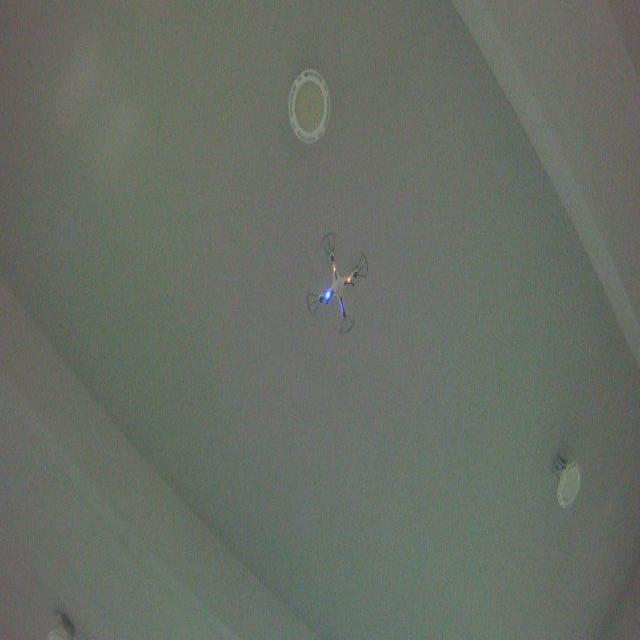drone: (304, 228, 370, 339)
